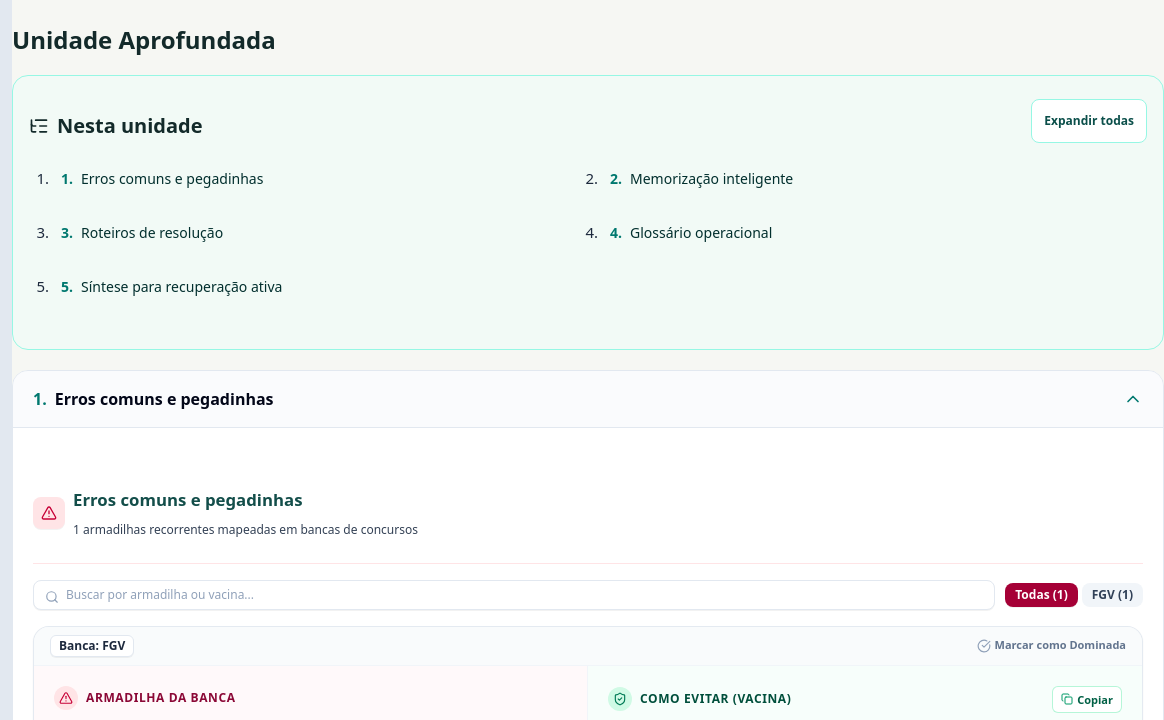
Test: MarkdownContent pedagógico › renderiza os novos layouts de campos: Pegadinhas, Mnemônicos, Roteiros, Glossário e Autoavaliação
# Expand all sections
Click the button "Expandir todas". click: (1089, 121)
box: [1031,99,1147,143]
(page scrolled)
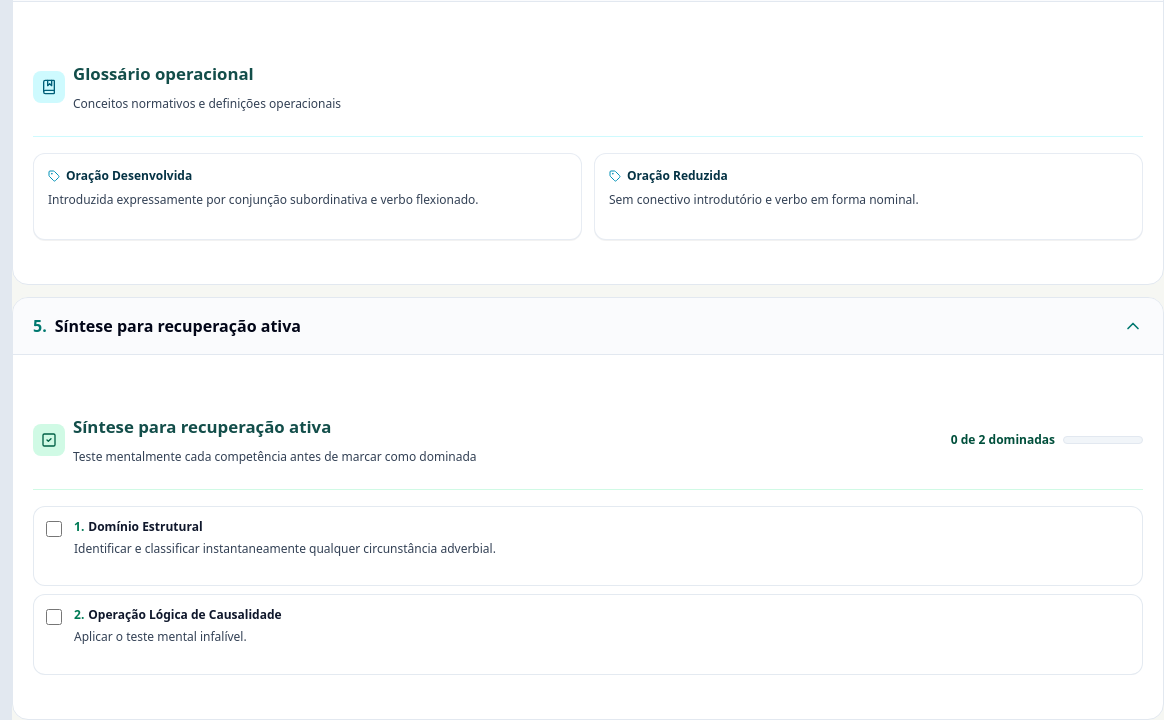
Expected: the heading "Oração Desenvolvida" is shown, [48,168,192,184]
Expected: the heading "Oração Reduzida" is shown, [609,168,728,184]
Expected: the text "1.Domínio Estrutural" is shown, [74,519,203,535]
Click the checkbox in the row of "Domínio Estrutural". click: (54, 529)
box: [46,521,62,537]
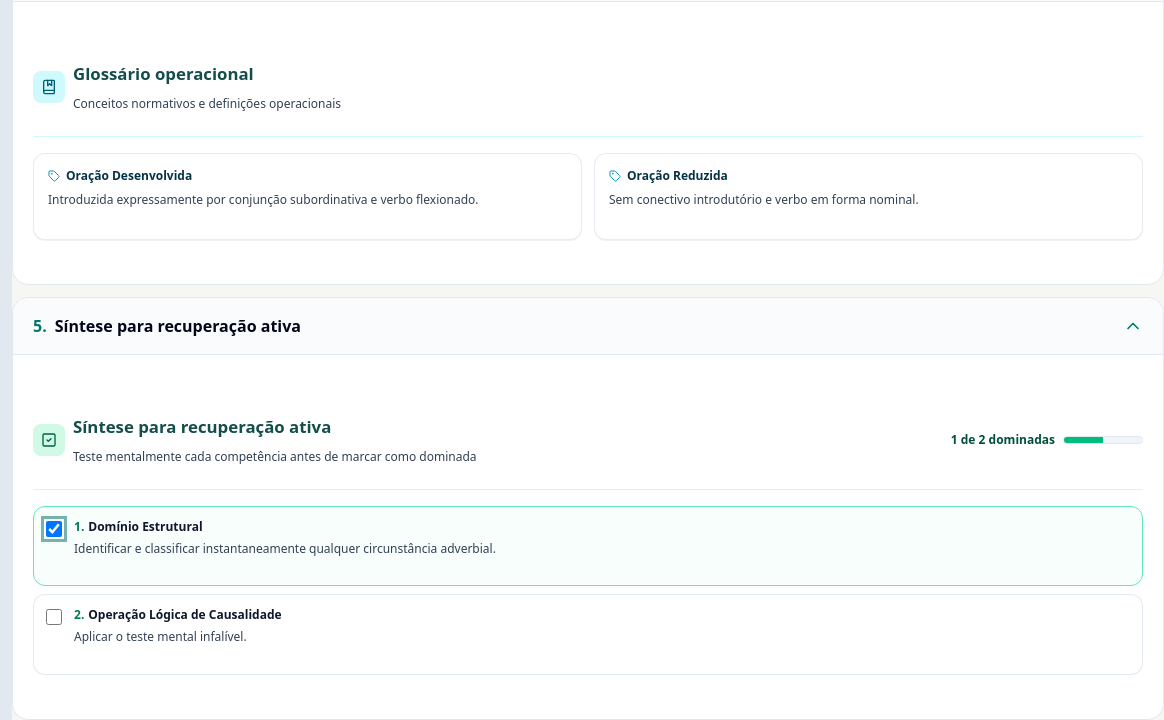
Expected: the text "1 de 2 dominadas" is shown, [951,432,1055,448]
